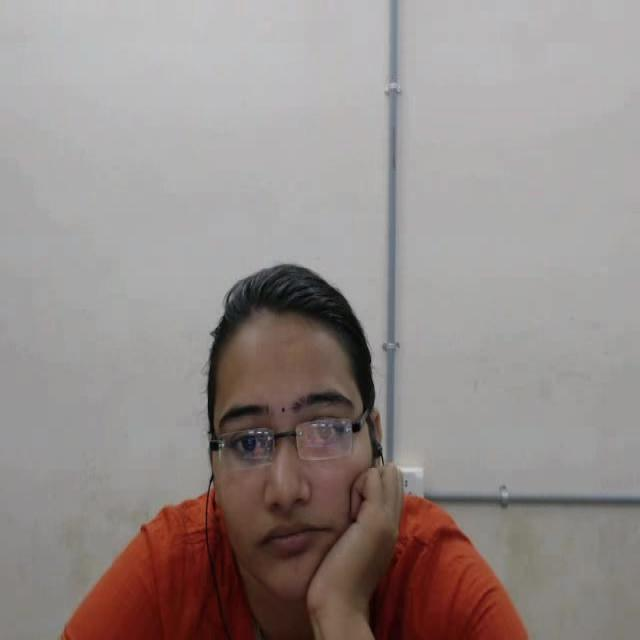Bored: (175, 242, 468, 640)
